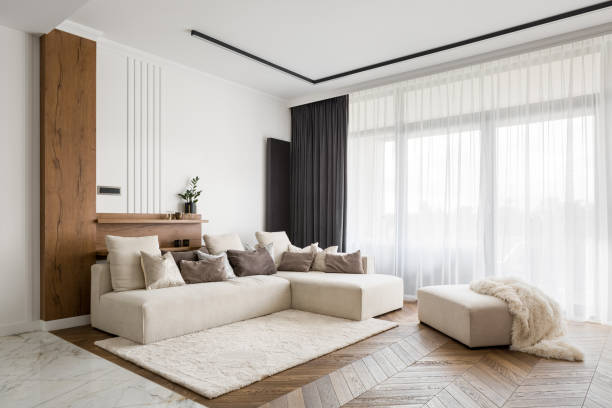chair: (414, 280, 554, 352)
flower vase: (176, 174, 205, 212)
sofa: (88, 229, 407, 346)
